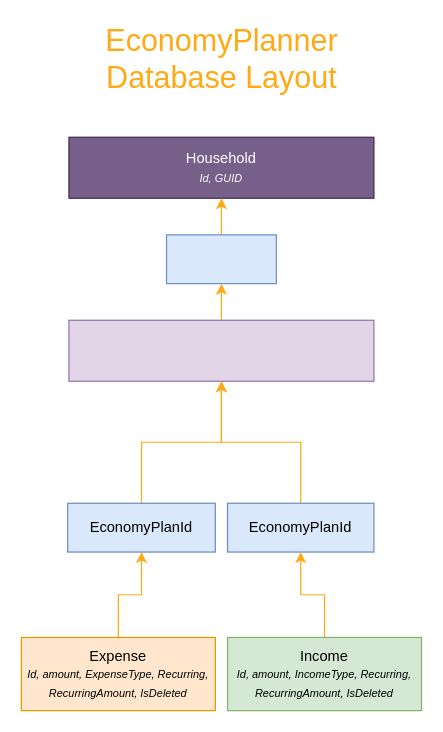
The diagram is 443 pixels wide and 732 high, and some of its shapes have lost their labels. The shapes that lost their labels are listed below. From the top down, each one's centre as x and y in pixels, then its label:
At point 220,259: "HouseholdId".
At point 221,350: "Economy Plan Id, name, List<Expense>, List<Income>, StartDate, EndDate".
